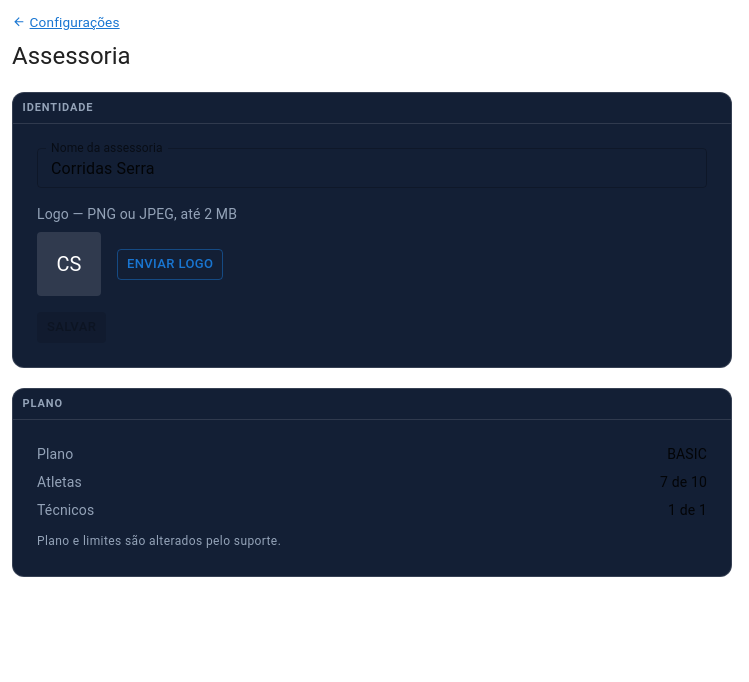
Test: CoachAssessoriaSettingsPage › conflito de edição › 409 mostra recarregar e preserva o que foi digitado
Type " Pro" into the field labelled "Nome da assessoria" at (372, 168), box top-left (37, 148), bottom-right (707, 188)
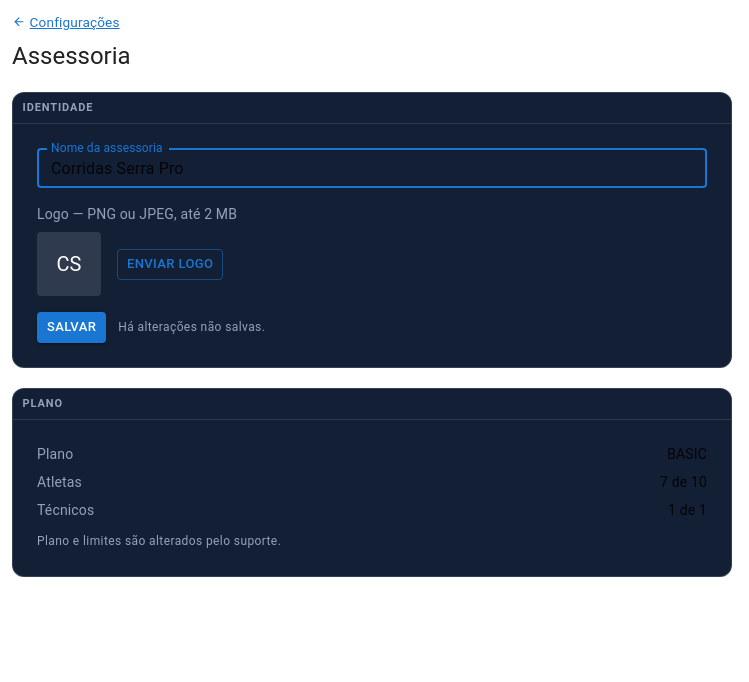
Click the button "Salvar" at (72, 328), box top-left (37, 312), bottom-right (106, 343)
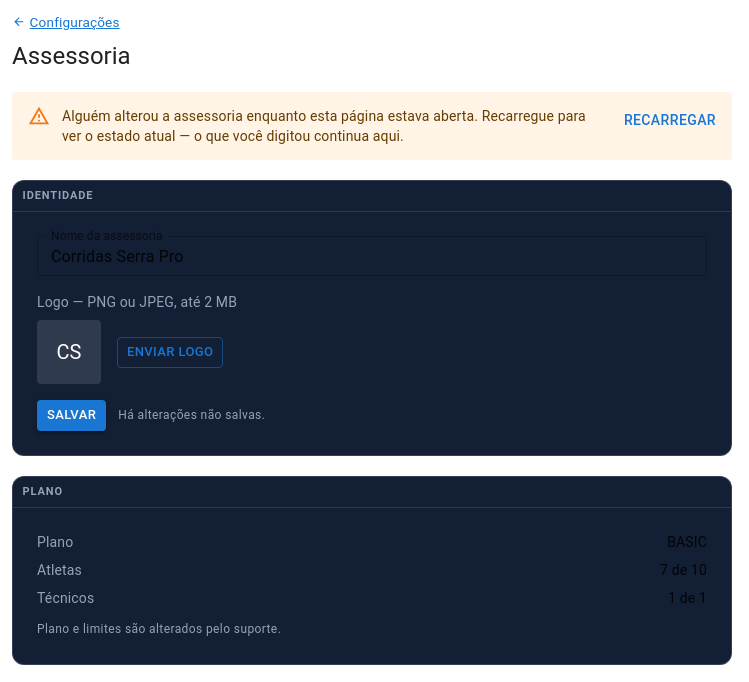
Result: the field showing "Corridas Serra Pro" is shown at top-left (37, 236), bottom-right (707, 276)
Result: the button "Recarregar" is shown at top-left (616, 102), bottom-right (724, 138)
Result: the text "alterou a assessoria" is shown at top-left (62, 108), bottom-right (586, 144)
